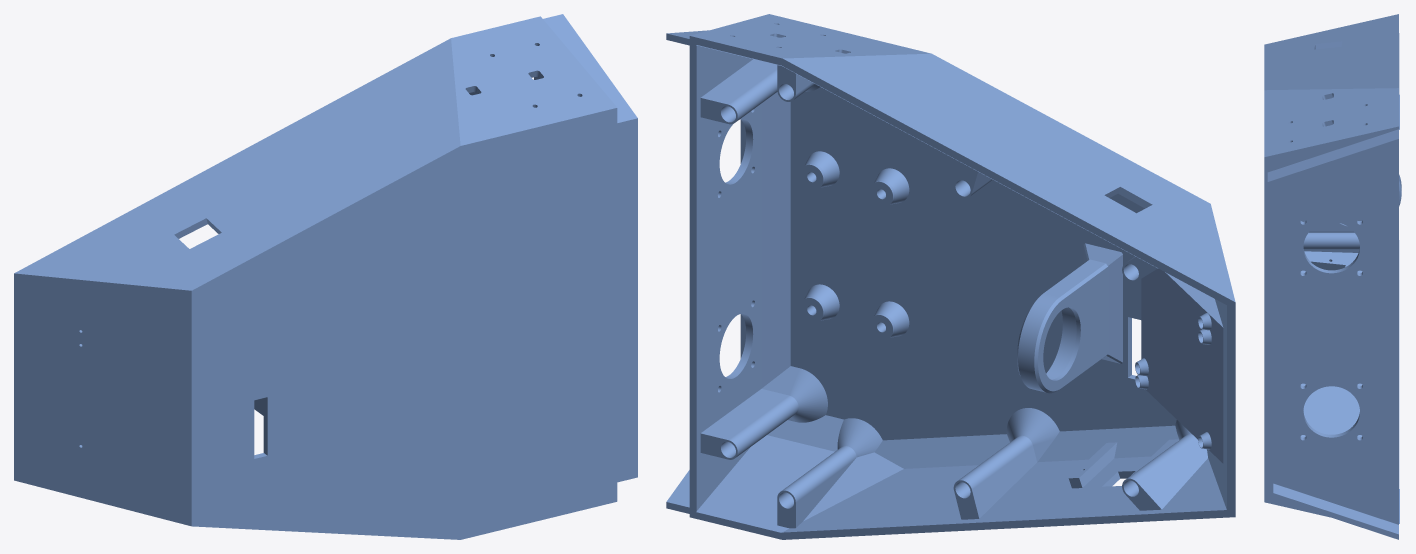
The picture shows the model from 3 angles, left to right: view 1: azimuth 30°, elevation 25°; view 2: azimuth 150°, elevation 25°; view 3: azimuth 270°, elevation 25°; orthographic projection. The views are drawn at different scales.
Visible parts, largest first — view 1: mesh2227, mesh2105, mesh2110, mesh2304, mesh2108, mesh2107; view 2: mesh2253, mesh2105, mesh2241, mesh2219, mesh2216, mesh2129, mesh2174, mesh2213, mesh2304, mesh2266, mesh2201, mesh2220 (+20 smaller); view 3: mesh2242, mesh2105, mesh2304, mesh2148, mesh2106, mesh2219, mesh2107, mesh2149, mesh2080, mesh2267, mesh2092, mesh2243 (+3 smaller).
Boxes of the visible parts, x1,y1,x2,y2 form: mesh2227: (191,108,617,539); mesh2105: (14,38,460,290); mesh2110: (14,273,191,526); mesh2304: (451,16,617,145); mesh2108: (617,118,637,482); mesh2107: (543,14,637,122); mesh2253: (790,87,1176,440); mesh2105: (783,53,1235,302); mesh2241: (696,45,761,510); mesh2219: (782,456,1226,532); mesh2216: (666,33,1235,539); mesh2129: (1141,268,1223,463); mesh2174: (761,92,790,388); mesh2213: (696,435,834,532); mesh2304: (690,14,930,58); mesh2266: (1038,267,1108,391); mesh2201: (874,434,1009,468); mesh2220: (1037,425,1178,462); mesh2242: (1273,144,1398,524); mesh2105: (1264,14,1398,90); mesh2304: (1264,88,1398,156); mesh2148: (1267,139,1398,539); mesh2106: (1264,126,1398,517); mesh2219: (1301,240,1399,488); mesh2107: (1267,129,1398,181); mesh2149: (1273,483,1398,534); mesh2080: (1303,232,1359,249); mesh2267: (1301,191,1399,231); mesh2092: (1305,254,1345,264); mesh2243: (1303,411,1359,437).
Bounding box in the file's own units: 0.245 × 0.198 × 0.0605.
